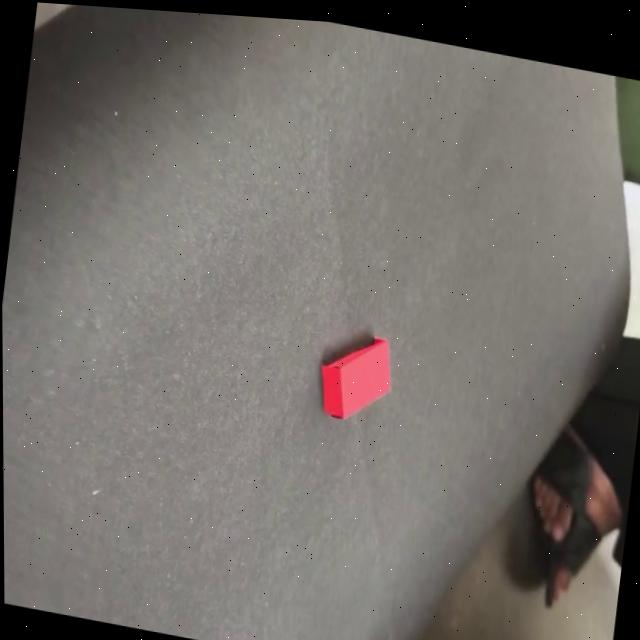red block: (315, 326, 397, 429)
